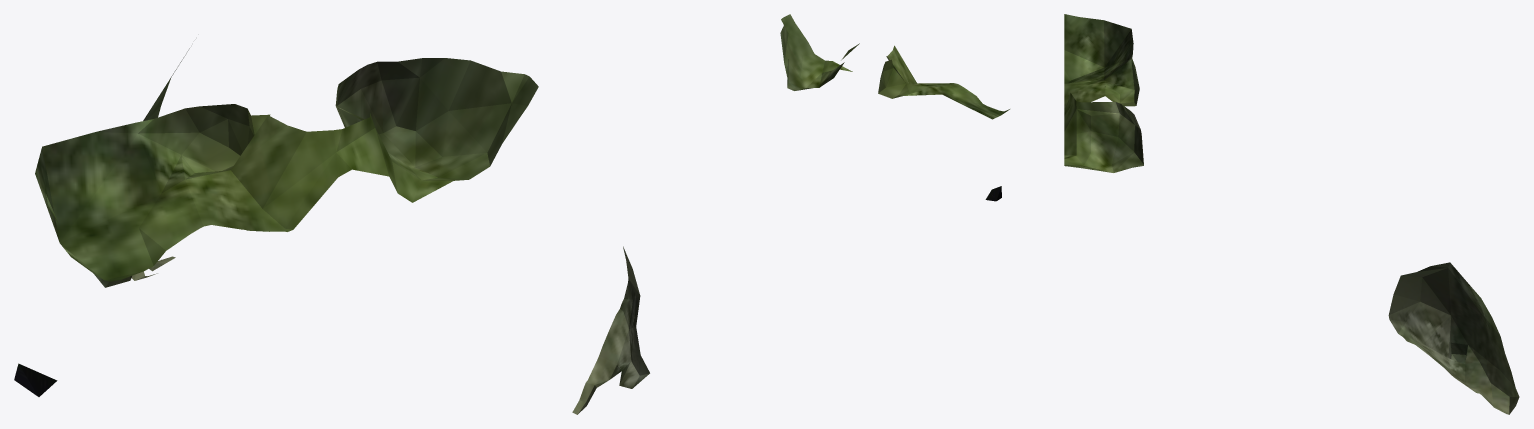
3 renders of one model, left to right at view 1: azimuth 30°, elevation 25°; view 2: azimuth 150°, elevation 25°; view 3: azimuth 270°, elevation 25°, orthographic. The views are drawn at different scales.
Size of the model in its own units: 1.7 by 1.59 by 2.44.
1 material, 1 textured.
